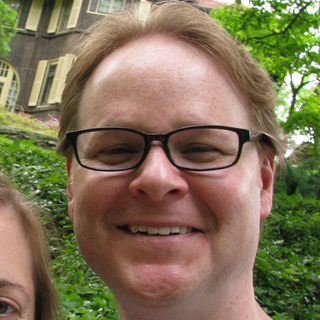eye: (176, 139, 227, 161), (92, 141, 139, 162)
